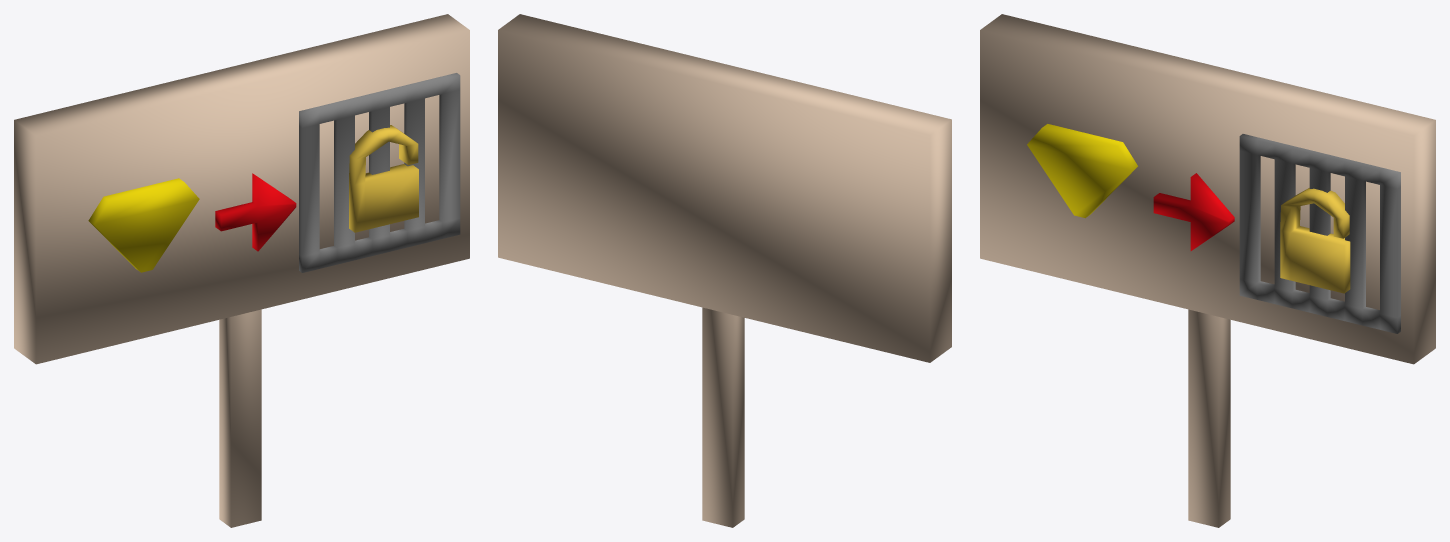
The model's file is kannbann.fbx.
3 views of the same model, side by side, from view 1: azimuth 30°, elevation 25°; view 2: azimuth 150°, elevation 25°; view 3: azimuth 330°, elevation 25° (orthographic).
Visible parts, largest first — view 1: 平面.009; view 2: 平面.009; view 3: 平面.009.
Boxes of the visible parts, bbox=[...] form: 平面.009: bbox=[14, 14, 469, 527]; 平面.009: bbox=[498, 14, 951, 527]; 平面.009: bbox=[980, 14, 1435, 527].
Bounding box in the file's own units: 85.22 × 83.72 × 10.64.
